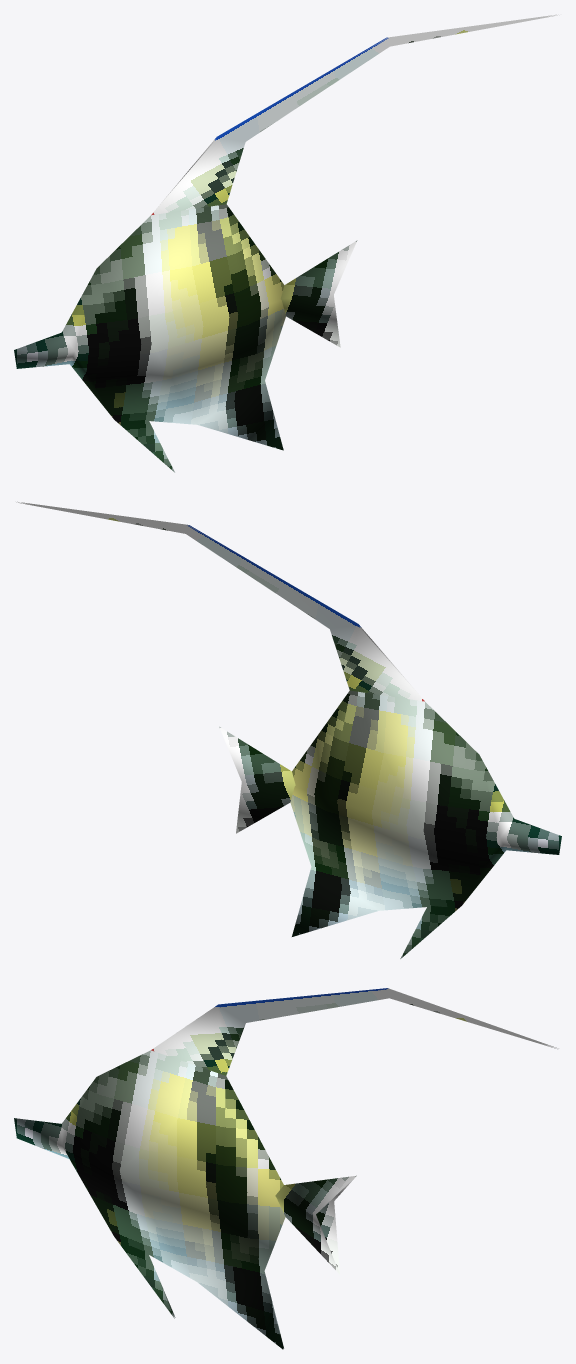
File: fish4.fbx
3 renders of one model, top to bottom at view 1: azimuth 30°, elevation 25°; view 2: azimuth 150°, elevation 25°; view 3: azimuth 330°, elevation 25°, orthographic.
Visible parts, largest first — view 1: m0.003; view 2: m0.003; view 3: m0.003.
Boxes of the visible parts, left/top/right/bottom form: m0.003: left=14, top=14, right=559, bottom=472; m0.003: left=16, top=501, right=561, bottom=958; m0.003: left=14, top=988, right=558, bottom=1349.
Bounding box in the file's own units: 134 × 90.55 × 13.9.
